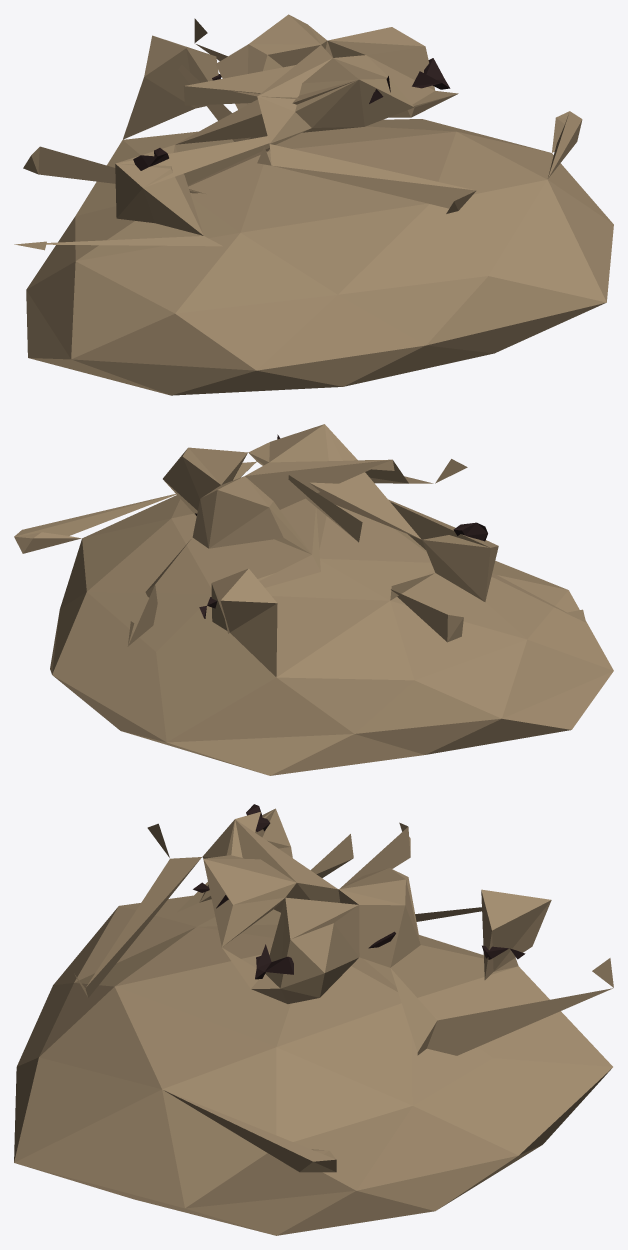
The model's file is bone-pile-lod1.glb.
The picture shows the model from 3 angles, top to bottom: view 1: azimuth 30°, elevation 25°; view 2: azimuth 150°, elevation 25°; view 3: azimuth 270°, elevation 25°; orthographic projection. The views are drawn at different scales.
Size of the model in its own units: 2.55 by 0.9579 by 2.07.
